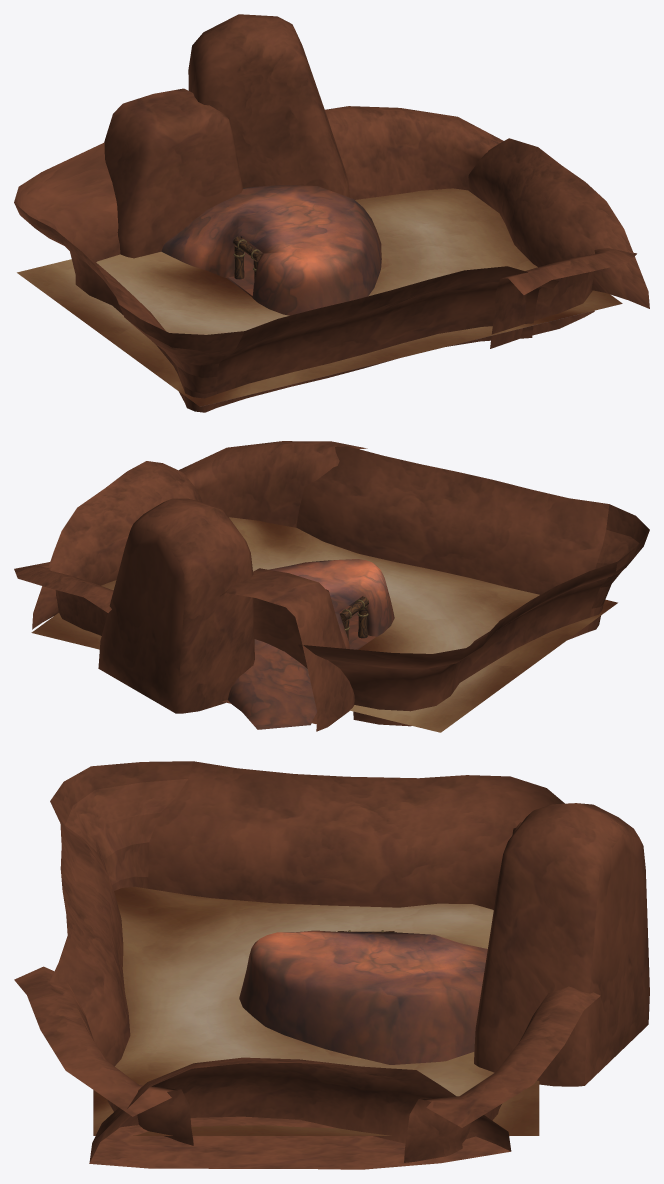
The model's file is Terein.FBX.
3 renders of one model, top to bottom at view 1: azimuth 30°, elevation 25°; view 2: azimuth 150°, elevation 25°; view 3: azimuth 270°, elevation 25°, orthographic. The views are drawn at different scales.
Visible parts, largest first — view 1: Plane004, Plane005, Cylinder004, ChamferBox002, Terijn, ChamferBox001, `; view 2: Plane004, ChamferBox002, Plane005, Terijn, Cylinder004, `, ChamferBox001; view 3: Plane004, Plane005, ChamferBox002, `, Cylinder004, Terijn.
Part boxes in pixels (<box>): Plane004: <box>14,142,558,412</box>; Plane005: <box>17,188,622,406</box>; Cylinder004: <box>161,185,381,315</box>; ChamferBox002: <box>188,14,349,197</box>; Terijn: <box>325,106,636,348</box>; ChamferBox001: <box>104,88,242,258</box>; `: <box>468,138,649,308</box>; Plane004: <box>296,446,649,726</box>; ChamferBox002: <box>98,498,254,713</box>; Plane005: <box>31,517,617,732</box>; Terijn: <box>14,441,367,635</box>; Cylinder004: <box>227,559,394,729</box>; `: <box>32,461,202,629</box>; ChamferBox001: <box>220,568,354,731</box>; Plane004: <box>49,761,564,1066</box>; Plane005: <box>93,886,539,1135</box>; ChamferBox002: <box>474,803,649,1086</box>; `: <box>89,1057,511,1169</box>; Cylinder004: <box>239,930,487,1064</box>; Terijn: <box>14,966,600,1162</box>.
Bounding box in the file's own units: 4620 × 1722 × 4083.
Materials: 4 (4 with a texture image).
